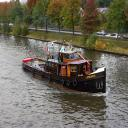tugboat: (22, 39, 108, 98)
